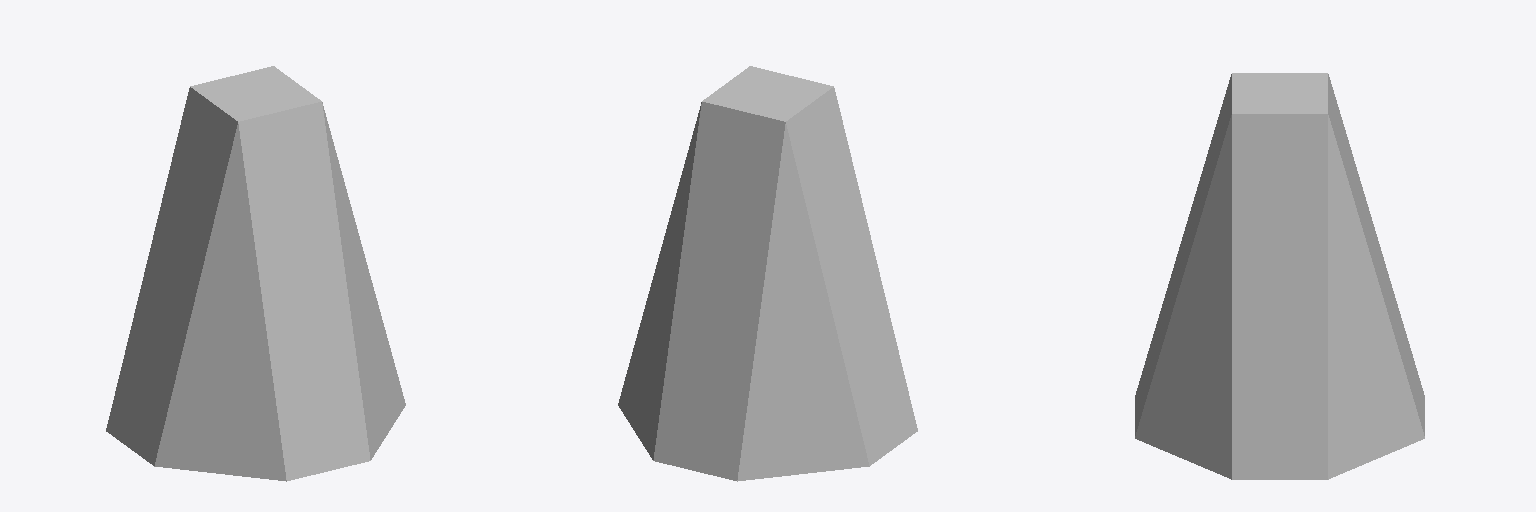
Rendered from Top of Octotoad.obj.
3 views of the same model, side by side, from view 1: azimuth 30°, elevation 25°; view 2: azimuth 150°, elevation 25°; view 3: azimuth 270°, elevation 25° (orthographic).
Visible parts, largest first — view 1: octotoad1; view 2: octotoad1; view 3: octotoad1.
Boxes of the visible parts, <box> form: octotoad1: <box>106,66,405,481</box>; octotoad1: <box>618,66,917,481</box>; octotoad1: <box>1135,73,1424,479</box>.
Size of the model in its own units: 0.852 by 1.05 by 0.852.